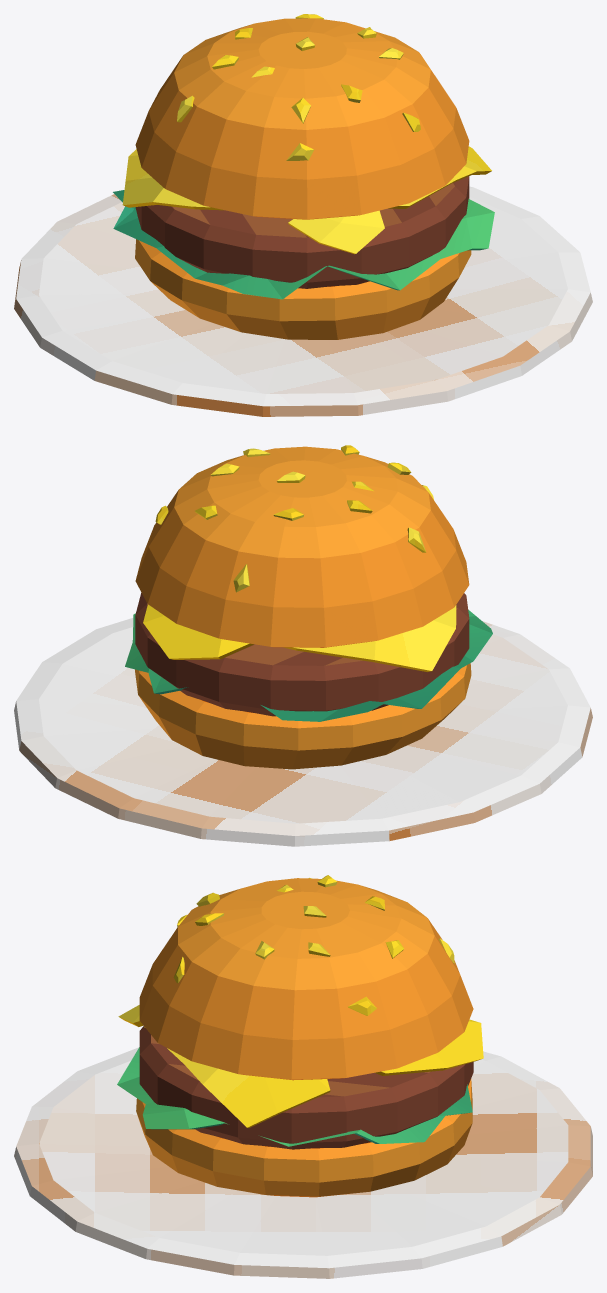
Rendered from Burger.fbx.
The picture shows the model from 3 angles, top to bottom: view 1: azimuth 30°, elevation 25°; view 2: azimuth 150°, elevation 25°; view 3: azimuth 270°, elevation 25°; orthographic projection.
Visible parts, largest first — view 1: Plate, TopBun, Patty, BottomBun, Letuce, Cheese; view 2: Plate, TopBun, BottomBun, Patty, Cheese, Letuce; view 3: Plate, TopBun, Patty, BottomBun, Cheese, Letuce.
Boxes of the visible parts, <box> form: Plate: <box>14,186,592,416</box>; TopBun: <box>135,14,469,219</box>; Patty: <box>135,176,469,288</box>; BottomBun: <box>135,239,471,339</box>; Letuce: <box>113,190,494,299</box>; Cheese: <box>122,146,491,254</box>; Plate: <box>14,618,592,846</box>; TopBun: <box>135,445,469,647</box>; BottomBun: <box>135,663,471,769</box>; Patty: <box>135,593,469,716</box>; Cheese: <box>143,604,456,671</box>; Letuce: <box>125,610,492,721</box>; Plate: <box>14,1047,592,1278</box>; TopBun: <box>139,875,473,1080</box>; Patty: <box>139,1026,473,1149</box>; BottomBun: <box>136,1079,472,1197</box>; Cheese: <box>118,1005,483,1127</box>; Letuce: <box>117,1047,472,1146</box>.
Bounding box in the file's own units: 3.46 × 1.73 × 3.44.
